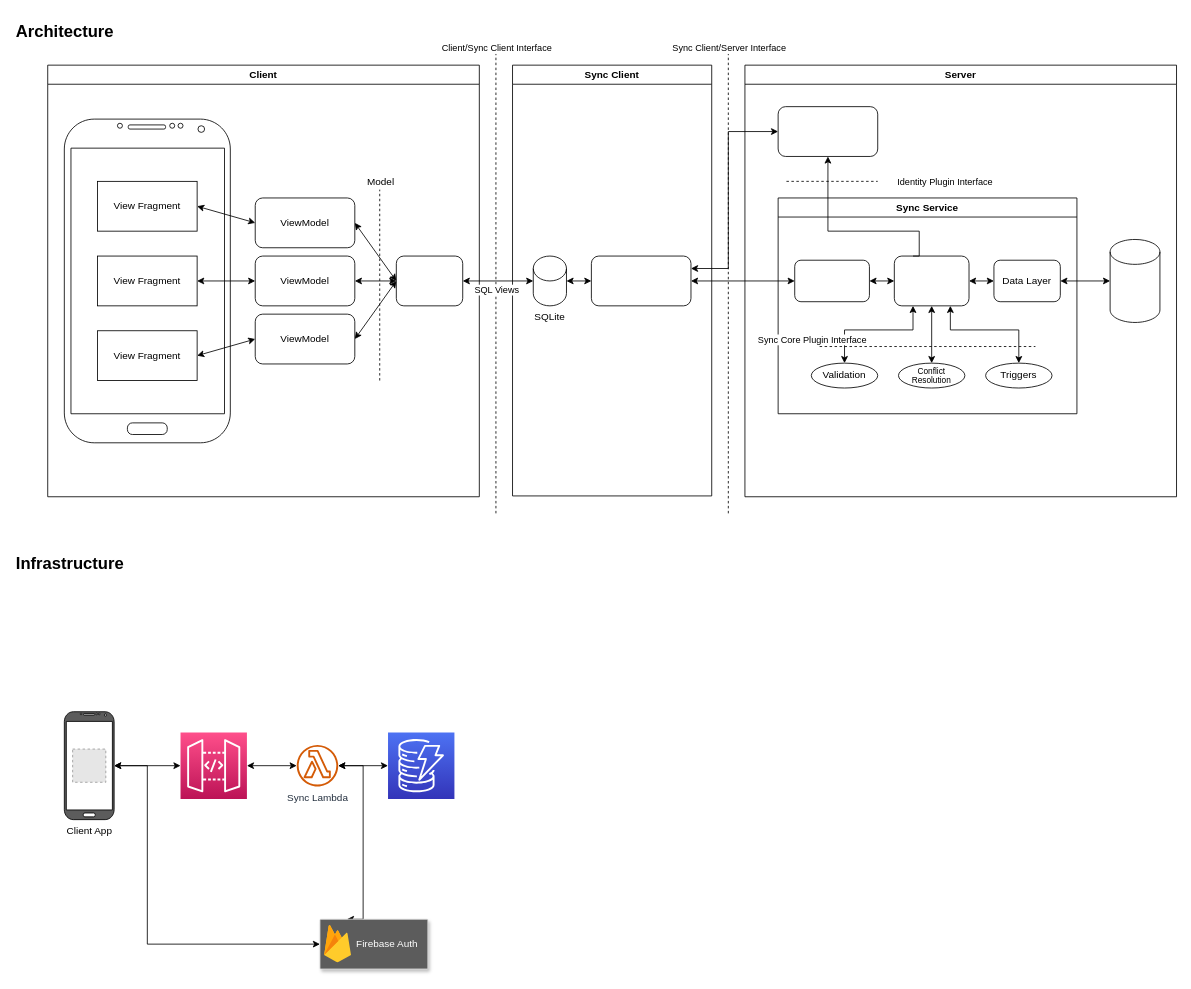
Some shapes in this 1191 by 989 pixel diagram are drawn without their labels. Grey dashed boxes stand in for pictures. The centre of each missing label's shape, as x and y in pixels:
"API Gateway" goes at (x=213, y=765).
"Data Access" goes at (x=429, y=280).
"Data Store" goes at (x=1134, y=280).
"DynamoDB Data Store" goes at (x=420, y=765).
"Identity Service" goes at (x=827, y=131).
"Network Client" goes at (x=641, y=280).
"Network Layer" goes at (x=831, y=280).
"Sync Core" goes at (x=931, y=280).
